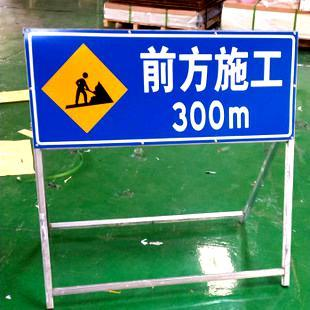sign: (27, 23, 299, 153)
